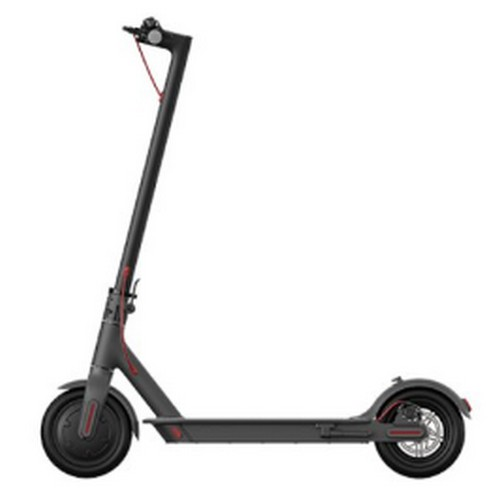kick_board: (35, 16, 469, 480)
kick_body: (150, 419, 373, 446)
kick_neck: (97, 52, 190, 388)
kick_wheel: (372, 375, 468, 482), (40, 382, 139, 476)
